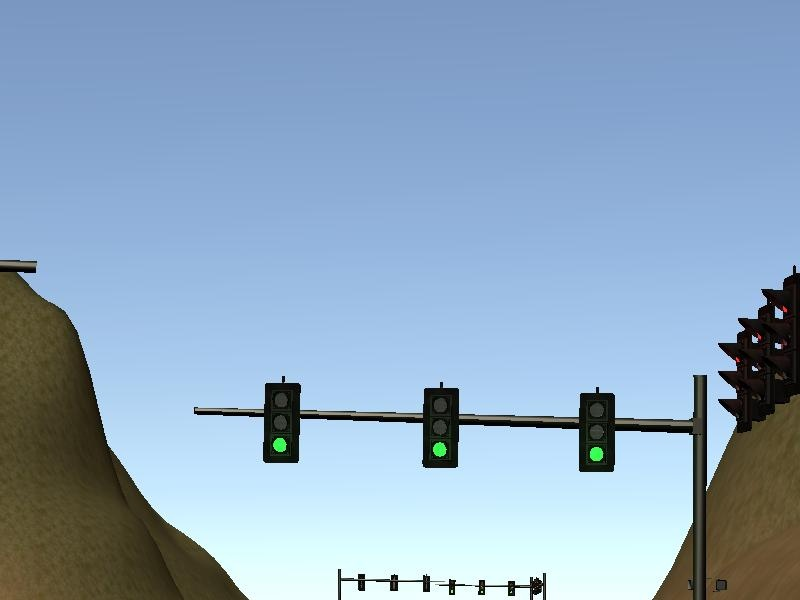green: (420, 379, 466, 472), (259, 374, 303, 471), (575, 386, 618, 477)
